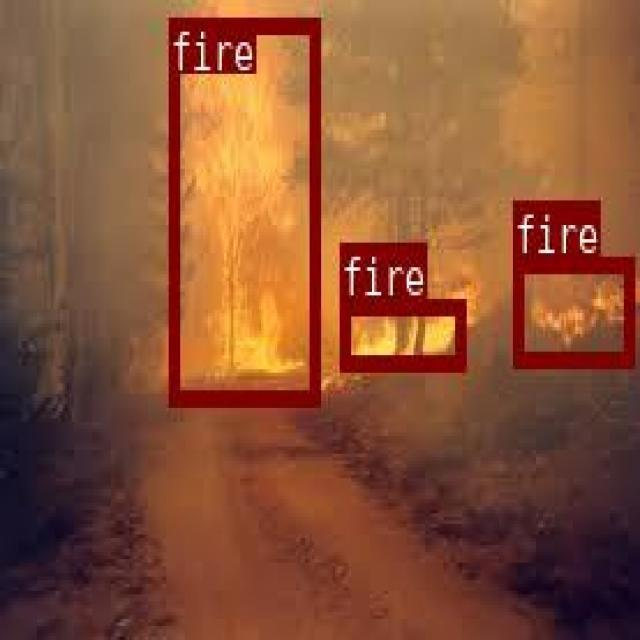fire: (167, 16, 318, 404), (512, 254, 633, 366), (340, 297, 464, 369)
